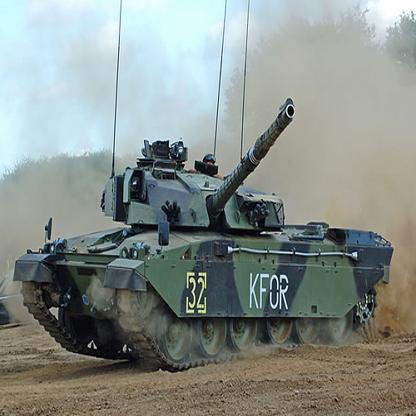Tank: (12, 121, 404, 370)
